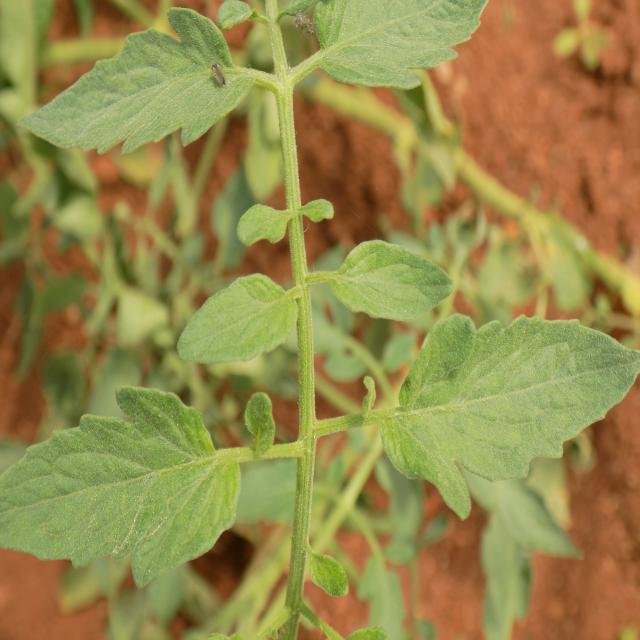tomato_healthy: (381, 311, 636, 517), (2, 389, 242, 588), (24, 8, 256, 151), (175, 268, 298, 366), (326, 238, 454, 320)
